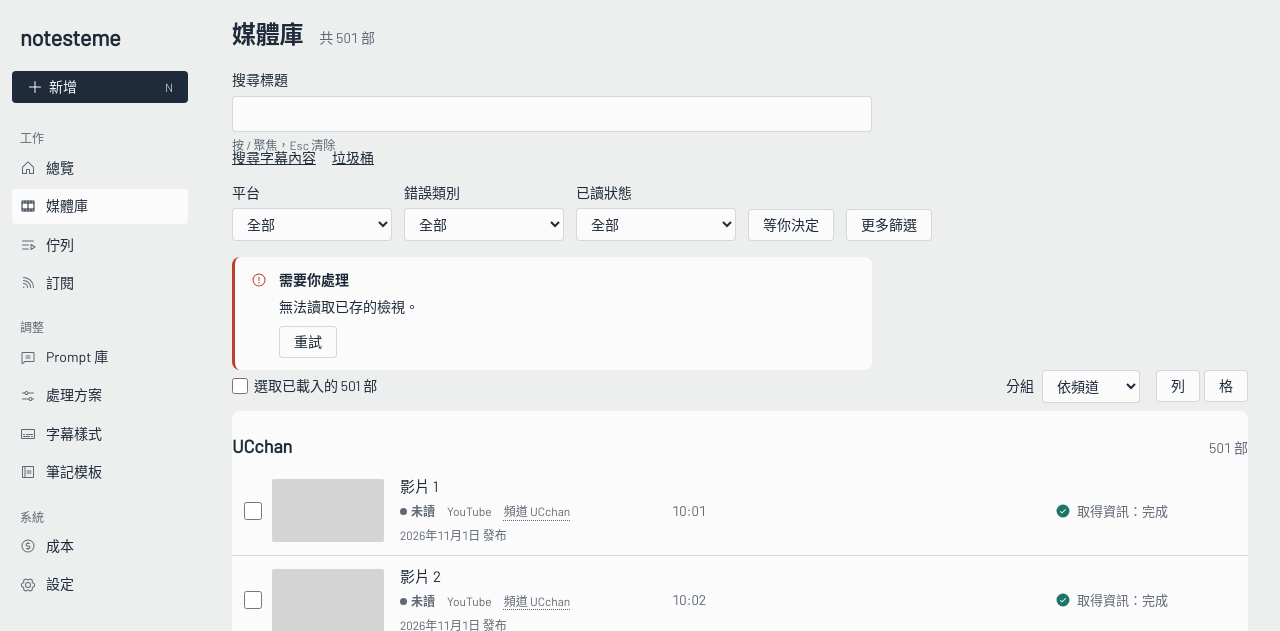
Test case: 媒體庫：批次操作（LIB-08） › 選取超過 500 部時停用走 dry_run 的動作，已讀／未讀仍可用
Click the checkbox labelled "選取已載入的 501 部": (240, 386) 232,378 -> 248,394
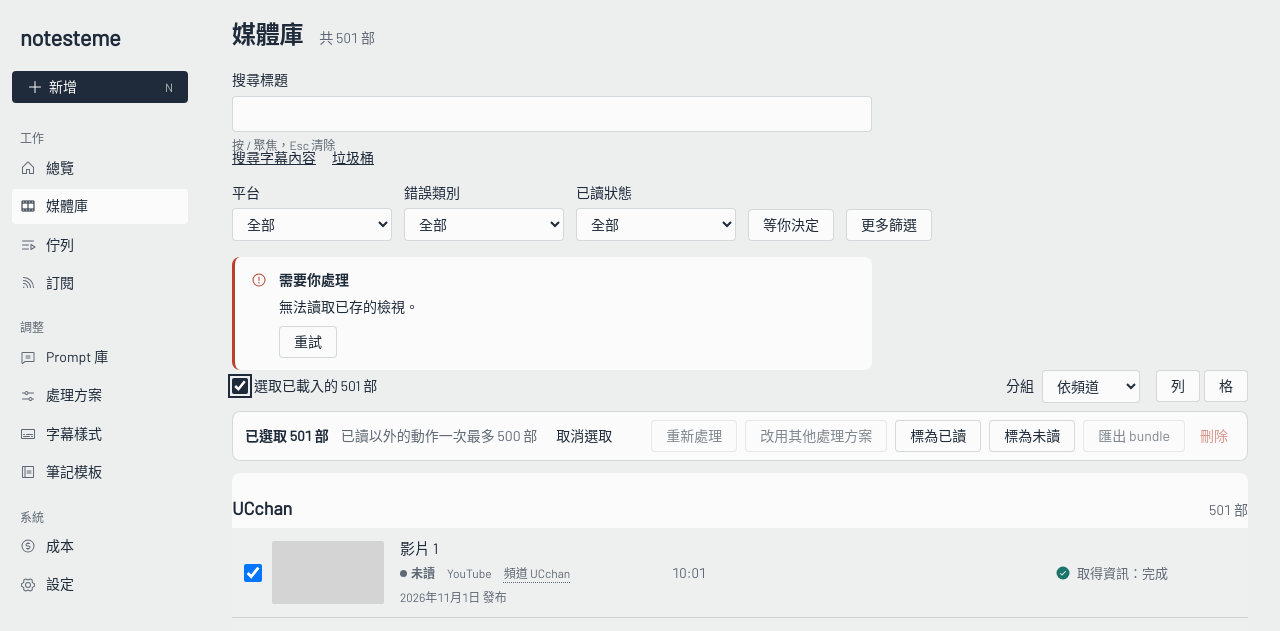
Expected: the text "已讀以外的動作一次最多 500 部" is shown, 341,425 -> 537,447
Expected: the button "刪除" is disabled, 1193,420 -> 1235,452
Expected: the button "標為已讀" is enabled, 895,420 -> 981,452
